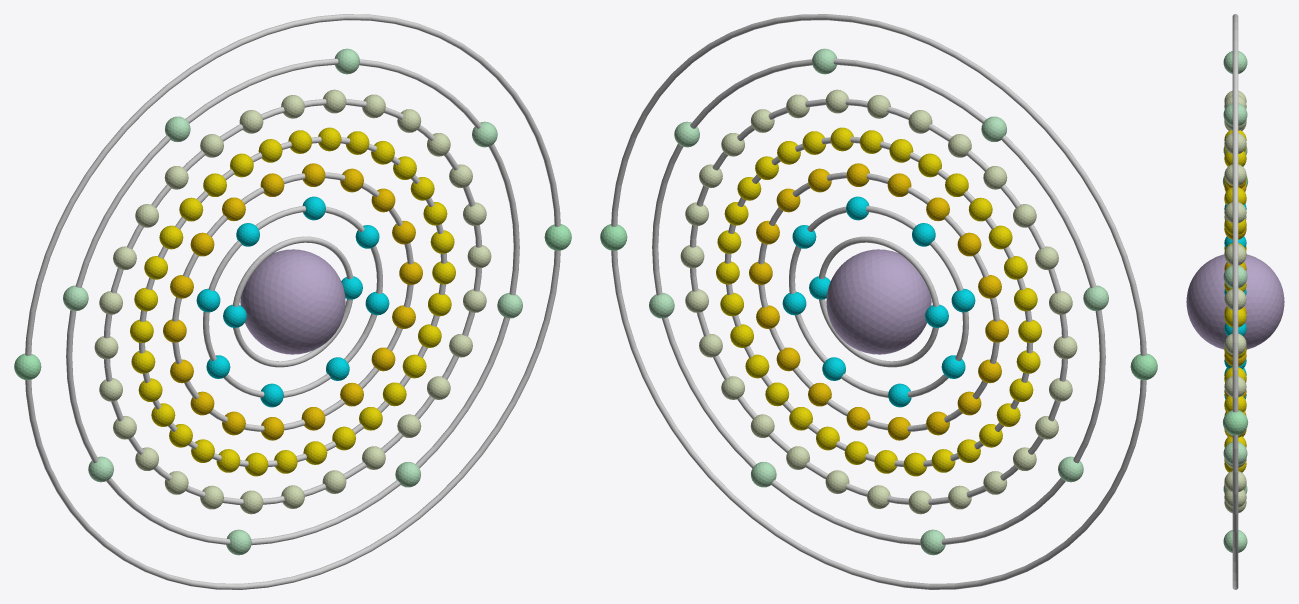
3 views of the same model, side by side, from view 1: azimuth 30°, elevation 25°; view 2: azimuth 150°, elevation 25°; view 3: azimuth 270°, elevation 25° (orthographic). The views are drawn at different scales.
Parts seen in each view (by area): view 1: world; view 2: world; view 3: world.
Part boxes in pixels (left/top/right/bottom): world: left=14, top=14, right=571, bottom=589; world: left=600, top=14, right=1157, bottom=589; world: left=1186, top=14, right=1284, bottom=589.
Bounding box in the file's own units: 2.67 × 2.59 × 0.44.
